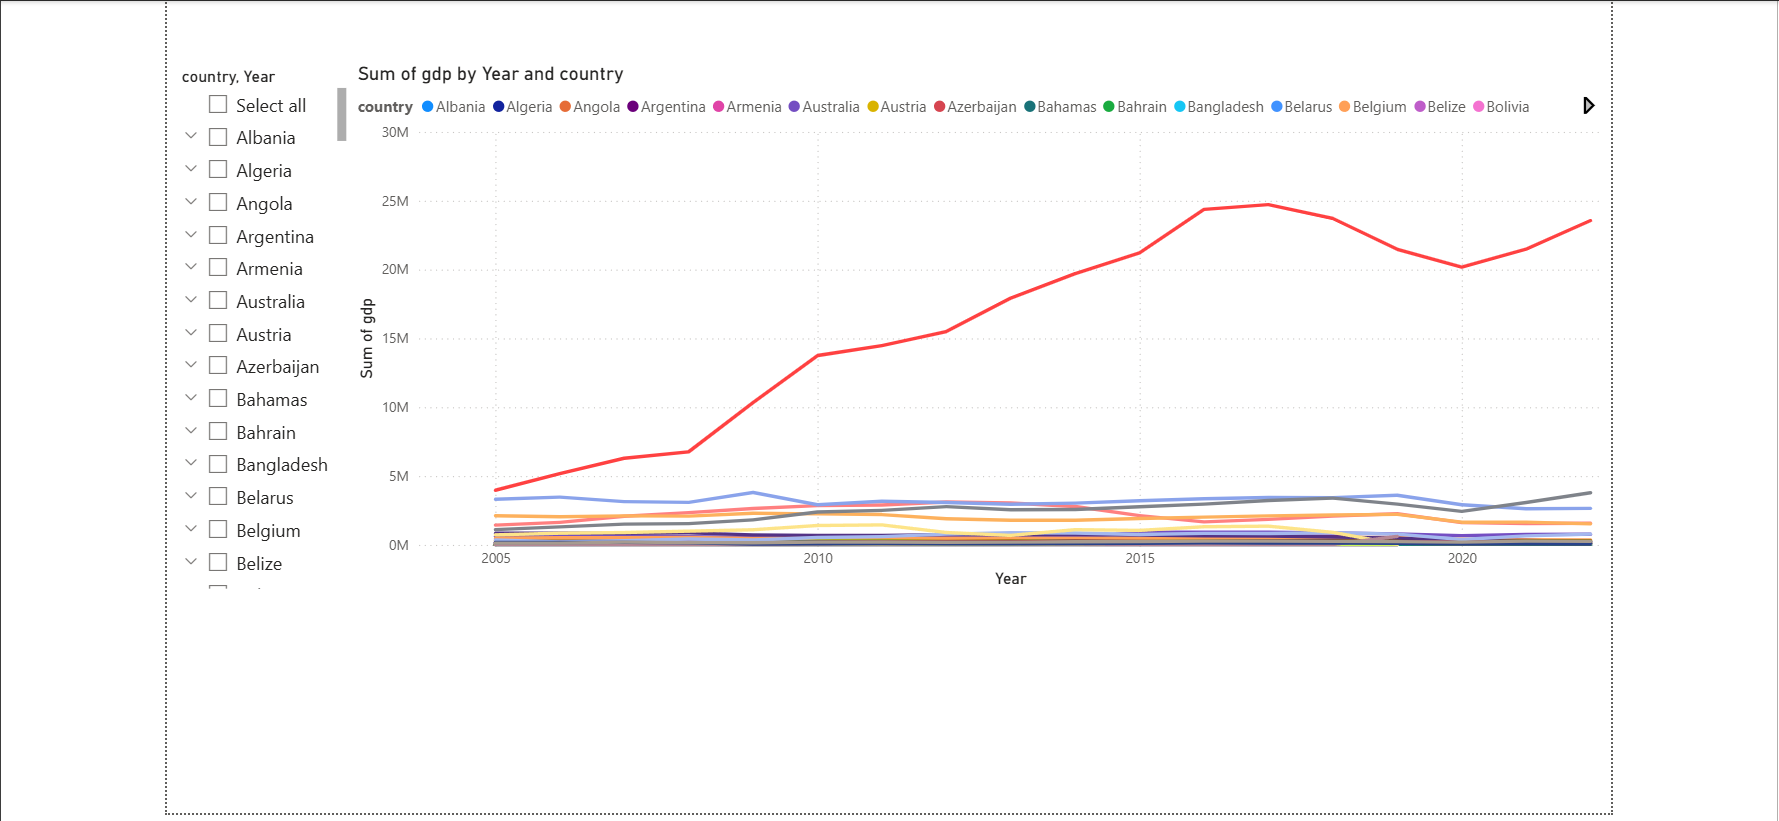

The page's visual inventory and layout, read from the dashboard file:
{"tool":"powerbi","page":{"name":"Сторінка 2","canvas":[1280,720],"ordinal":0},"visuals":[{"type":"lineChart","fields":{"Category":["clean_gdp.Year"],"Y":["Sum(clean_gdp.gdp)"],"Series":["clean_gdp.country"]},"box":[163.8,53.6,1116.2,471.5],"z":0},{"type":"slicer","fields":{"Values":["clean_gdp.country","clean_gdp.Year"]},"box":[0,53.6,163.8,471.5],"z":1000}]}

Visuals, with their boxes on the page's 1280x720 design canvas (x1, y1, x2, y2). These are canvas units, not pixel positions in the 1779x821 screenshot, which may show the page scaled, cropped or inside an application window:
lineChart - clean_gdp.Year x Sum(clean_gdp.gdp): rect(164, 54, 1280, 525)
slicer - clean_gdp.country x clean_gdp.Year: rect(0, 54, 164, 525)
